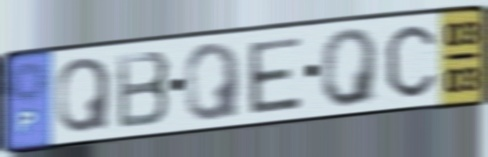B: (114, 47, 174, 132)
C: (383, 22, 438, 100)
E: (245, 34, 305, 117)
Q: (317, 25, 383, 110), (182, 39, 245, 124), (55, 55, 113, 136)
